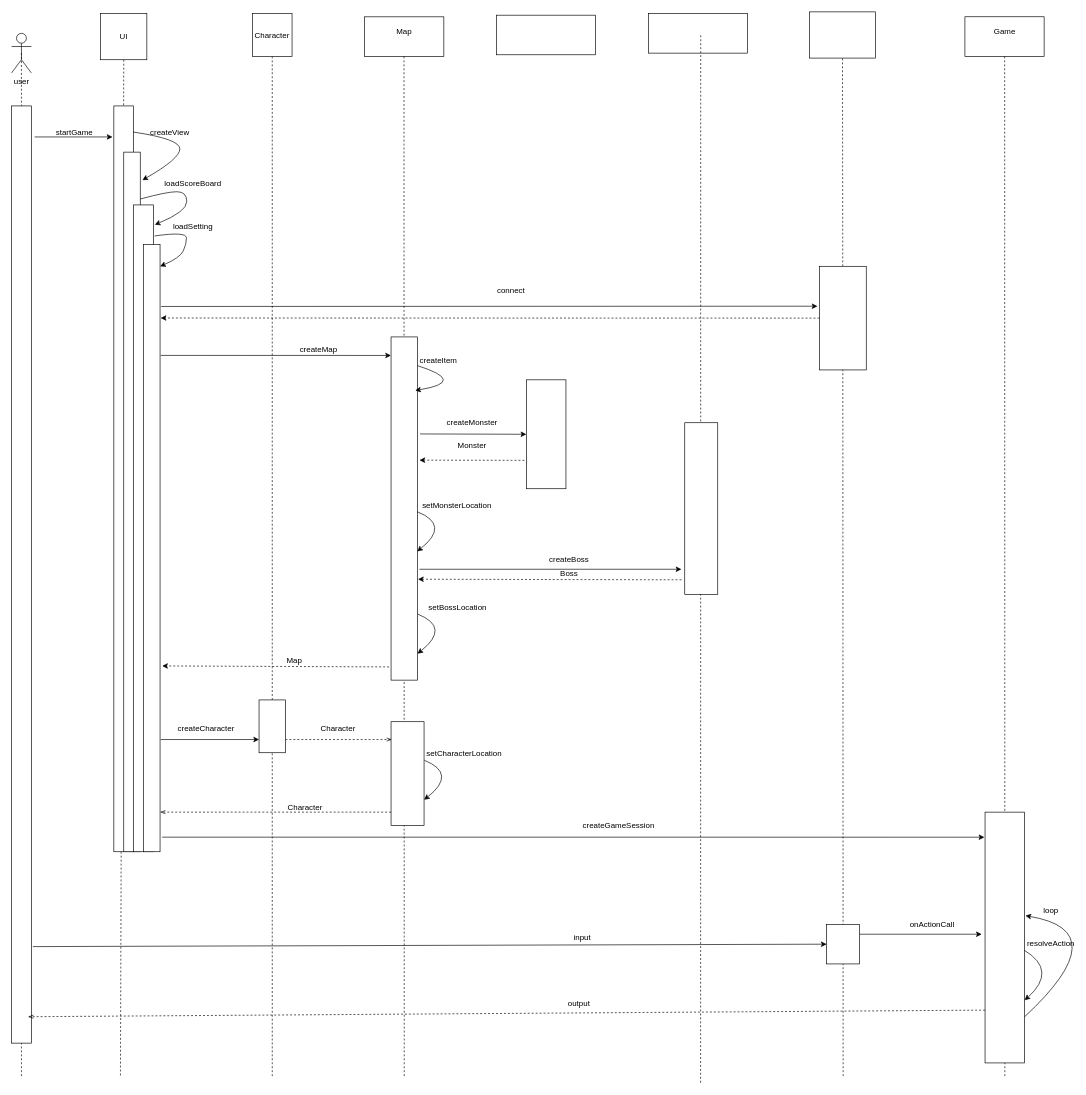
The diagram is 1086 pixels wide and 1095 high, and some of its shapes have lost their labels. The shapes that lost their labels are listed below. From the top down, each one's box as (x1, y1, x2, y2) in pixels, then its label:
(496, 15, 596, 55): normalMonster:Monster
(648, 13, 747, 53): bossMonster:Monster
(809, 11, 875, 58): IO device
